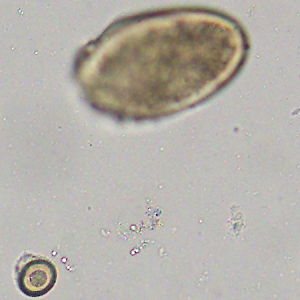Fasciola_hepatica_egg: (72, 6, 250, 121)
